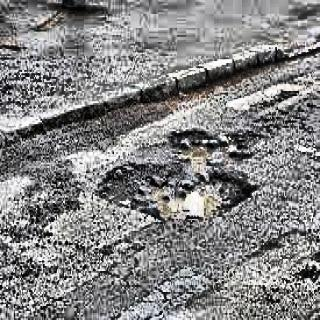pothole: (96, 152, 258, 221), (168, 126, 251, 164)
